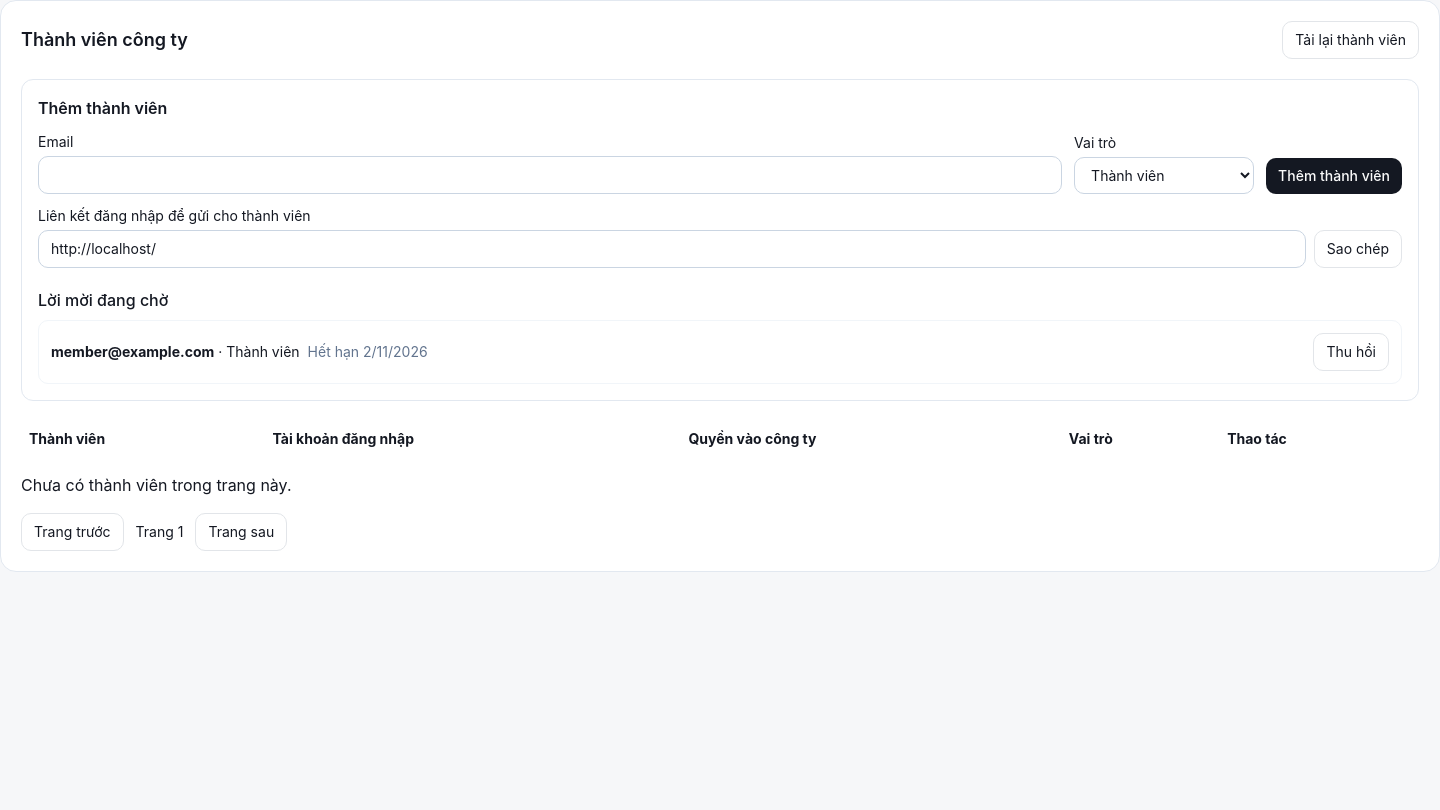
does not show a password for an existing account
The image size is (1440, 810).
Expected: the text "member@example.com" is shown, [51,343,214,360]
Step 1. Type "new@example.com" into the field named "Email thành viên" → (550, 175), box [38,156,1062,194]
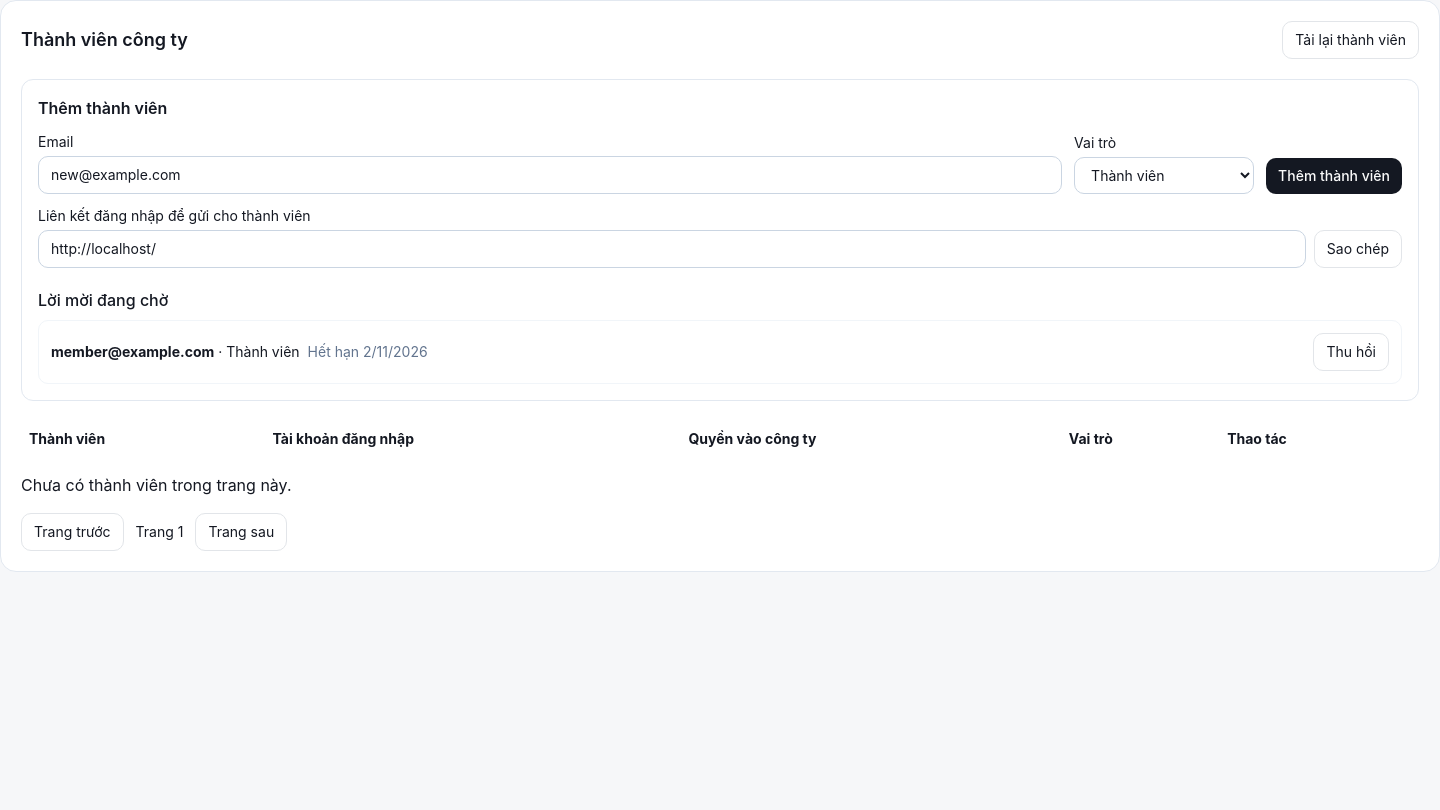
Step 2. Click the button "Thêm thành viên" → click(1334, 176), box [1266,158,1402,194]
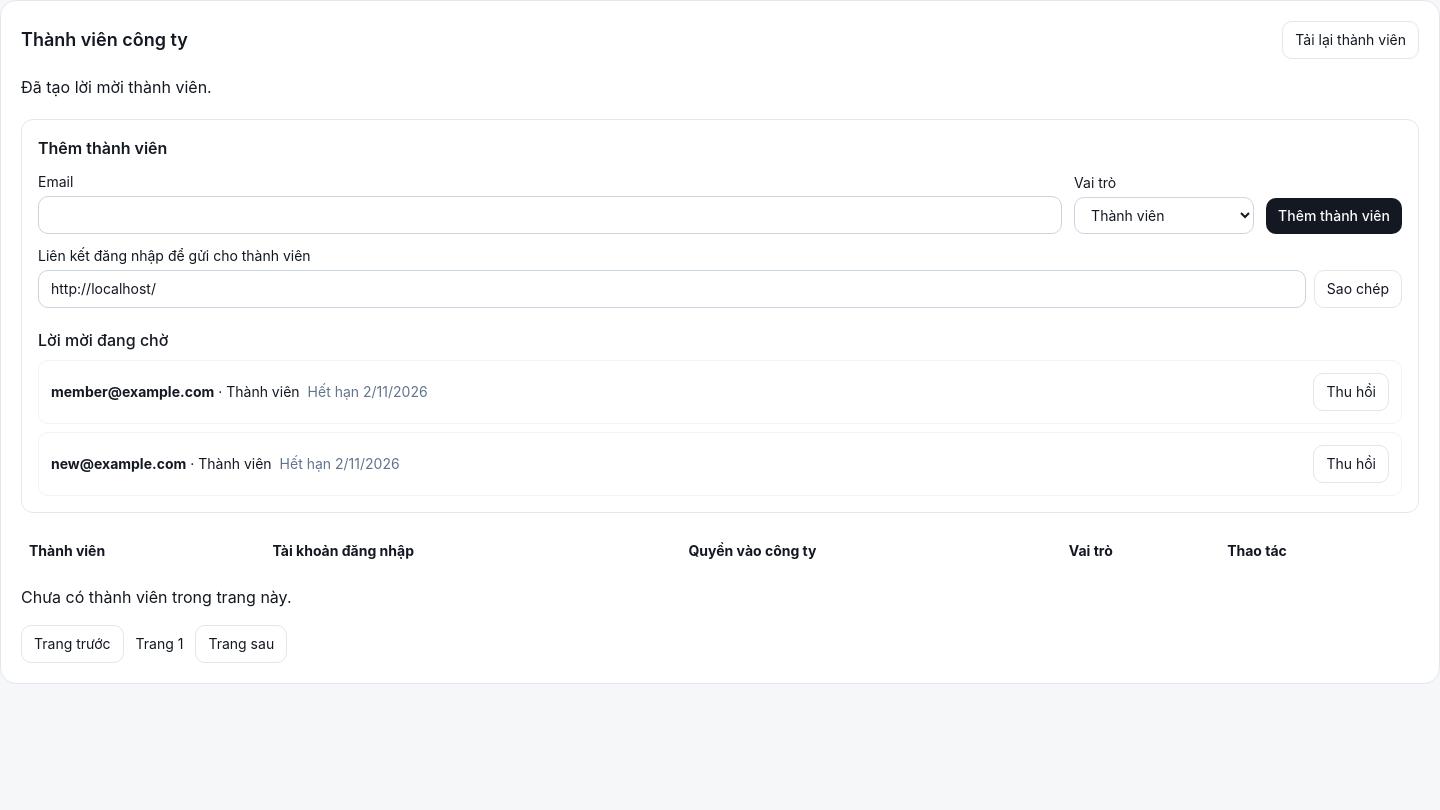
Result: the text "Đã tạo lời mời thành viên." is shown at [21,77,212,97]
